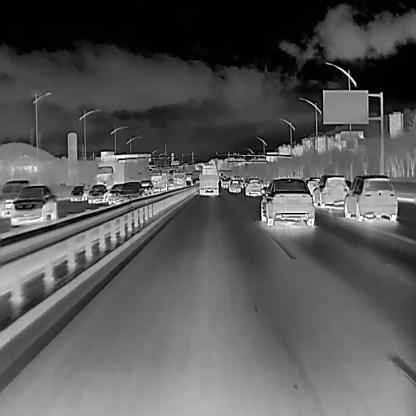car: (260, 177, 315, 227), (343, 172, 398, 222), (10, 185, 57, 229), (312, 172, 350, 210), (0, 178, 30, 218), (95, 161, 136, 189), (116, 181, 144, 207), (198, 163, 219, 196), (87, 182, 109, 203), (243, 176, 264, 196), (106, 182, 123, 203), (151, 168, 167, 187), (70, 184, 88, 200), (138, 179, 153, 194), (226, 180, 241, 194), (172, 171, 185, 187), (220, 177, 229, 188)
